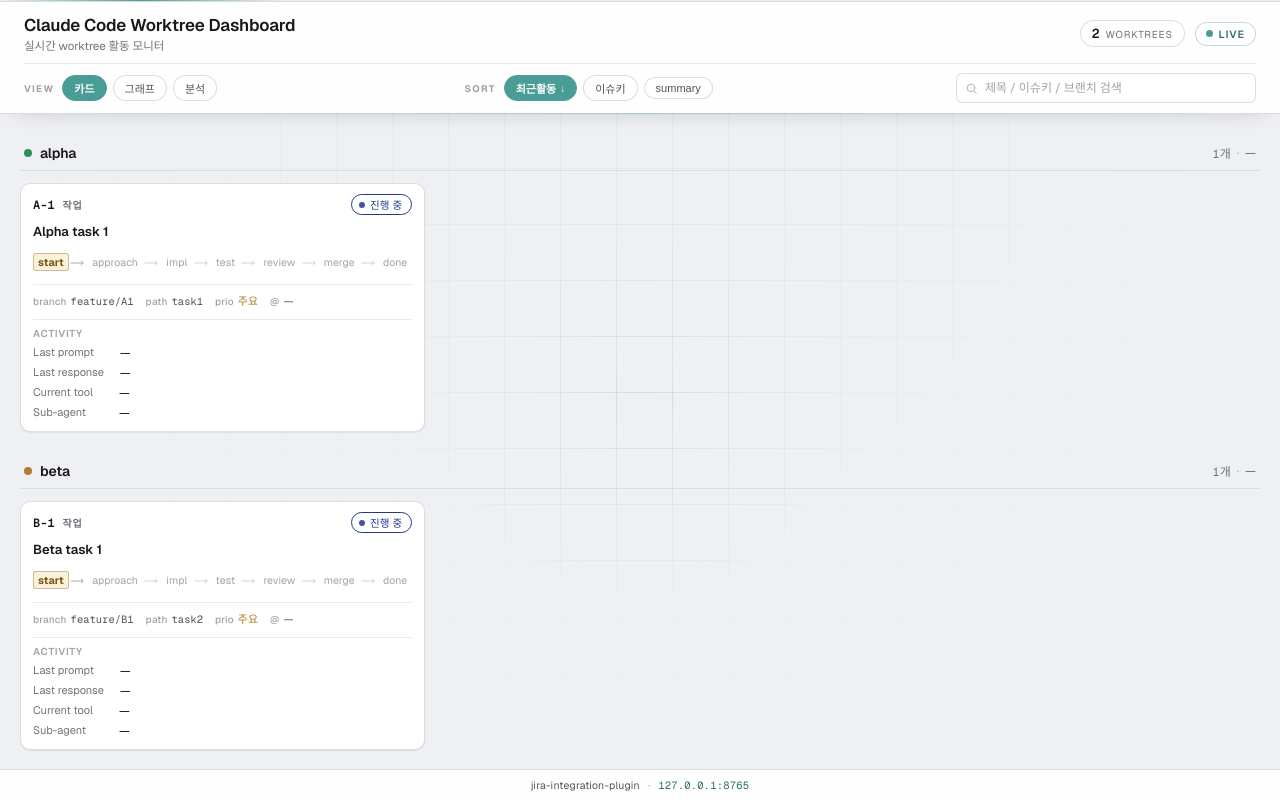
Test: App grouping — E5: 검색 필터로 한 그룹만 0건 → 해당 그룹 헤더 미렌더 › B 그룹 키워드 검색 시 A 헤더 미렌더, B 헤더만 표시
Type "Beta task" into the search field at (1106, 88), box [956,73,1256,103]
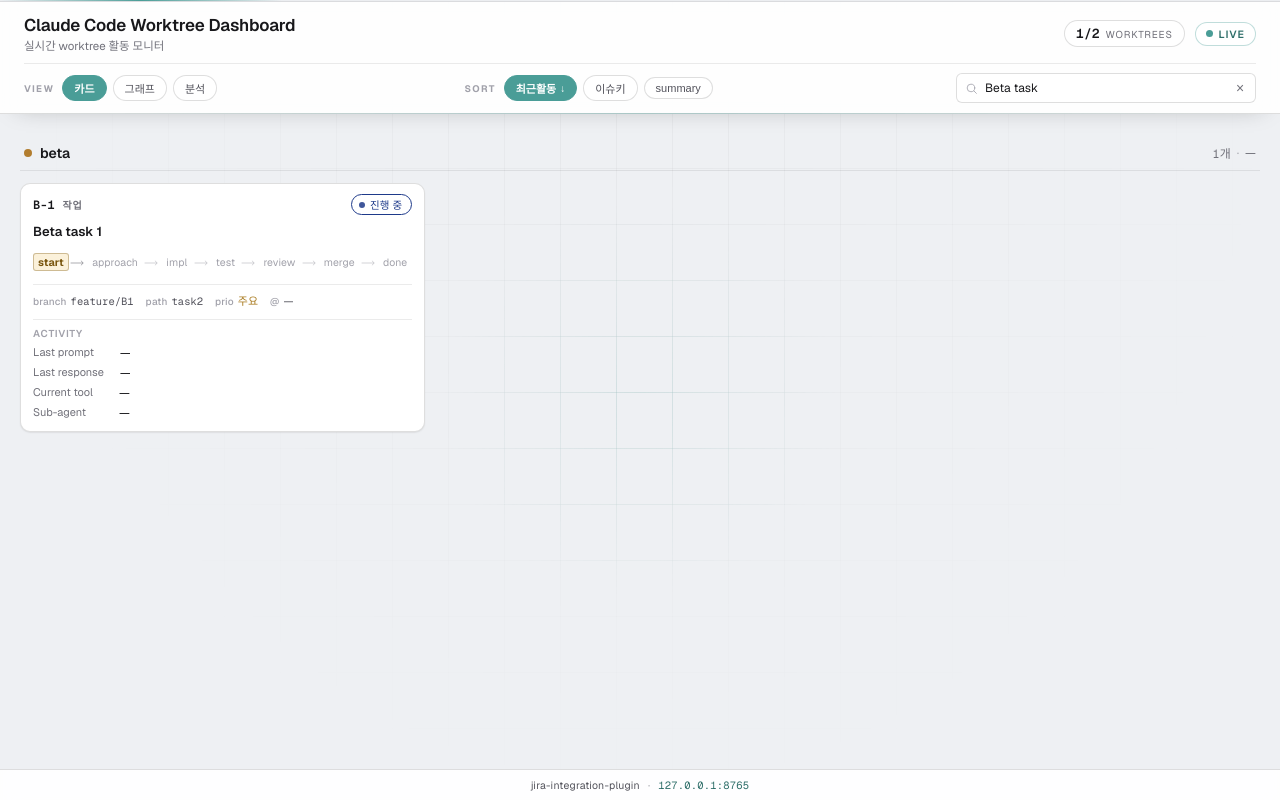
Result: the number of elements with class "workspace-group" is 1 at [20,134,1260,432]
